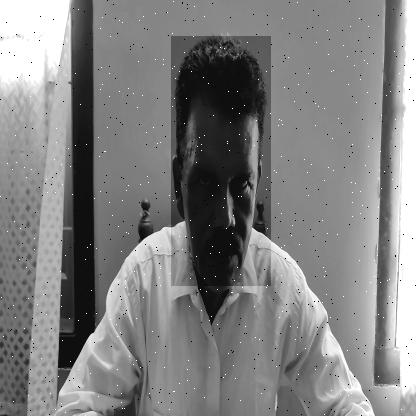Normal: (170, 36, 270, 286)
